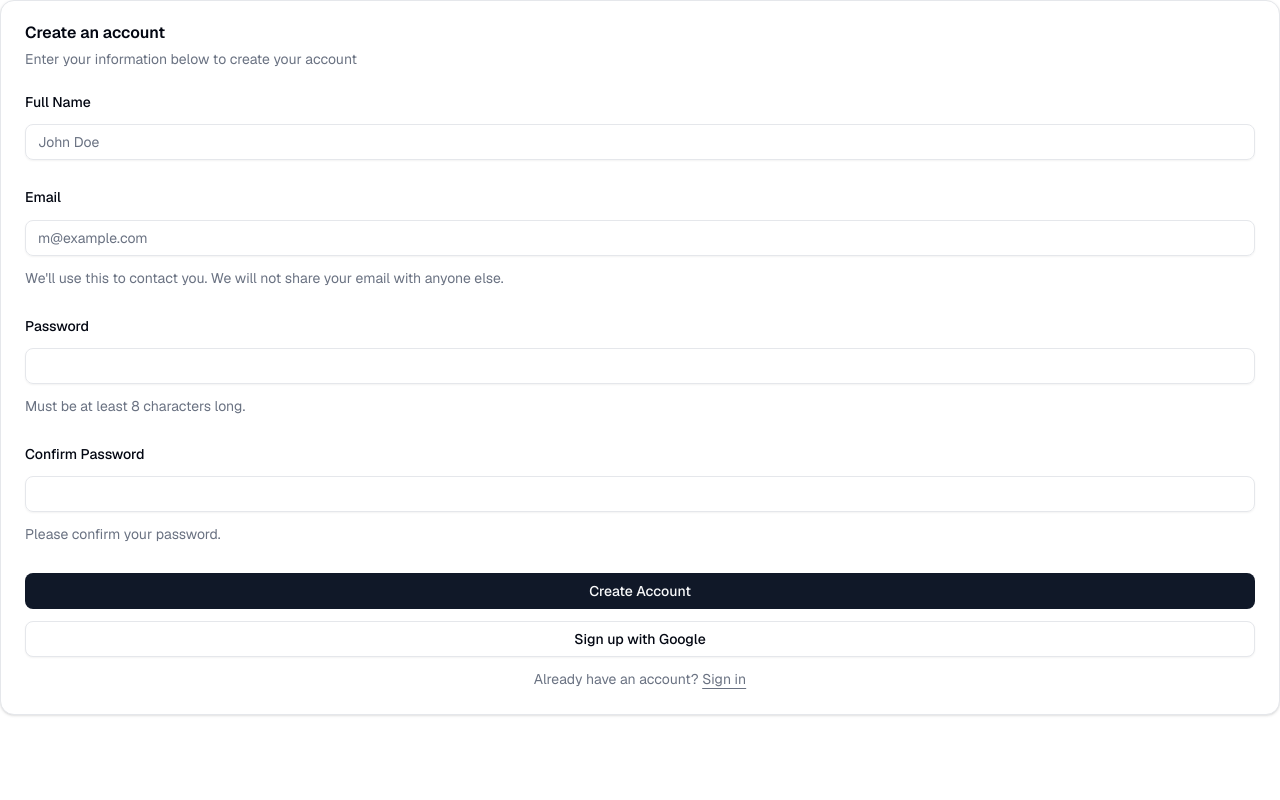
Test case: SignupForm Component › should show error when registration fails
Step 1. Type "Test User" into the field labelled "Full Name" → (640, 142), box [25,124,1255,160]
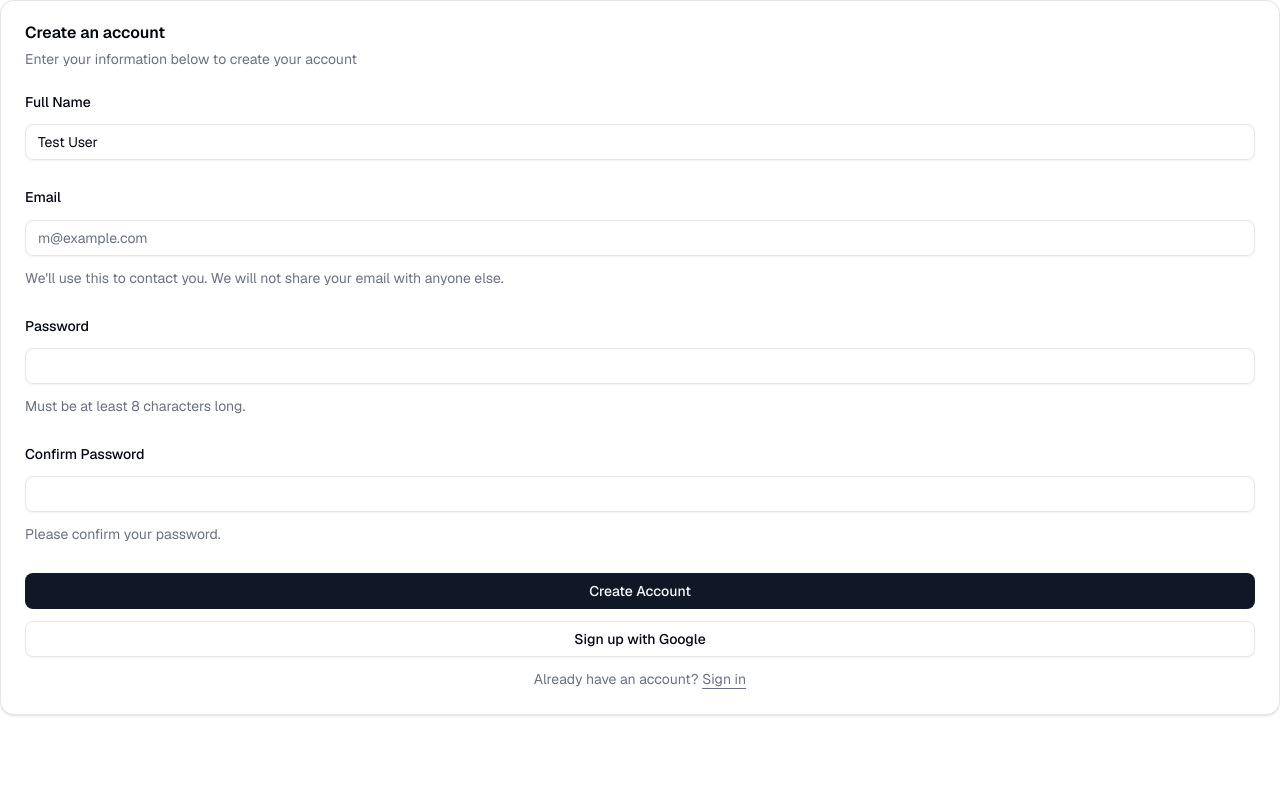
Step 2. Type "existing@example.com" into the field labelled "Email" → (640, 238), box [25,220,1255,256]
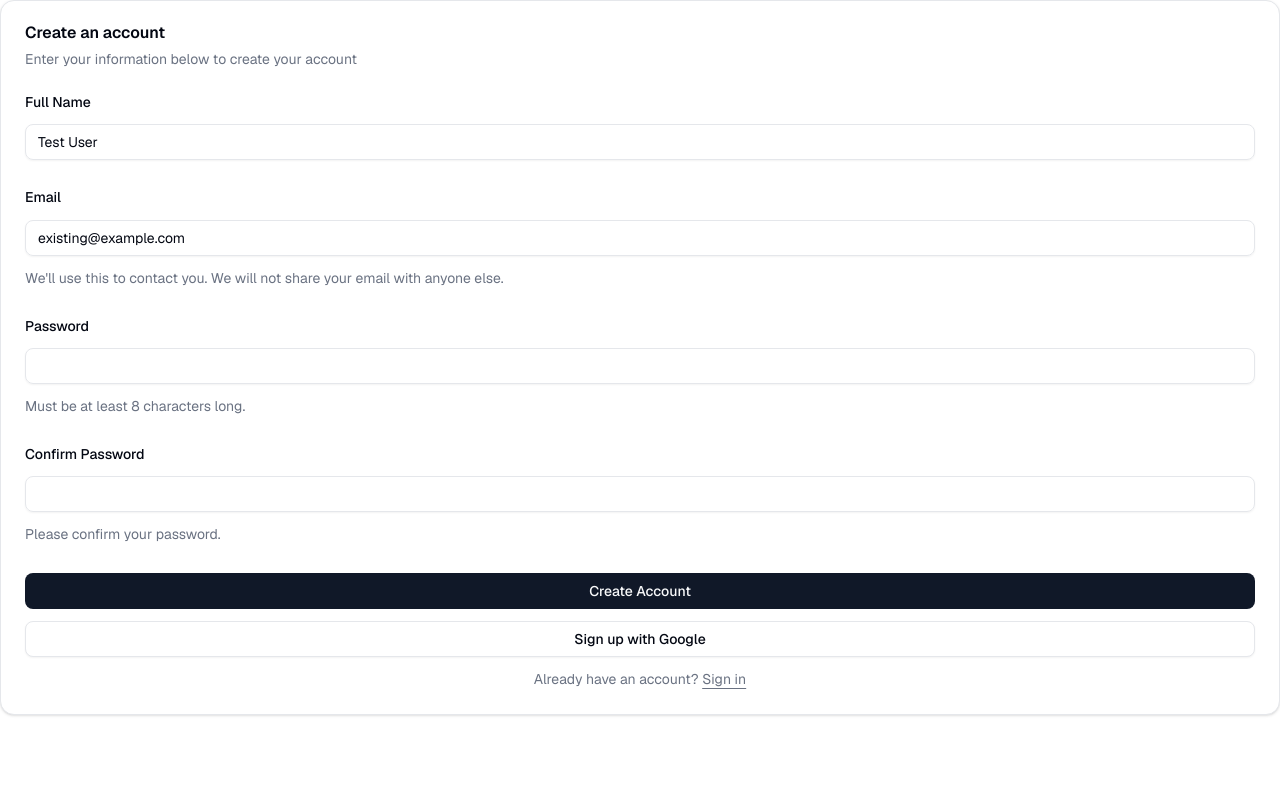
Step 3. Type "password123" into the password field labelled "Password" → (640, 366), box [25,348,1255,384]
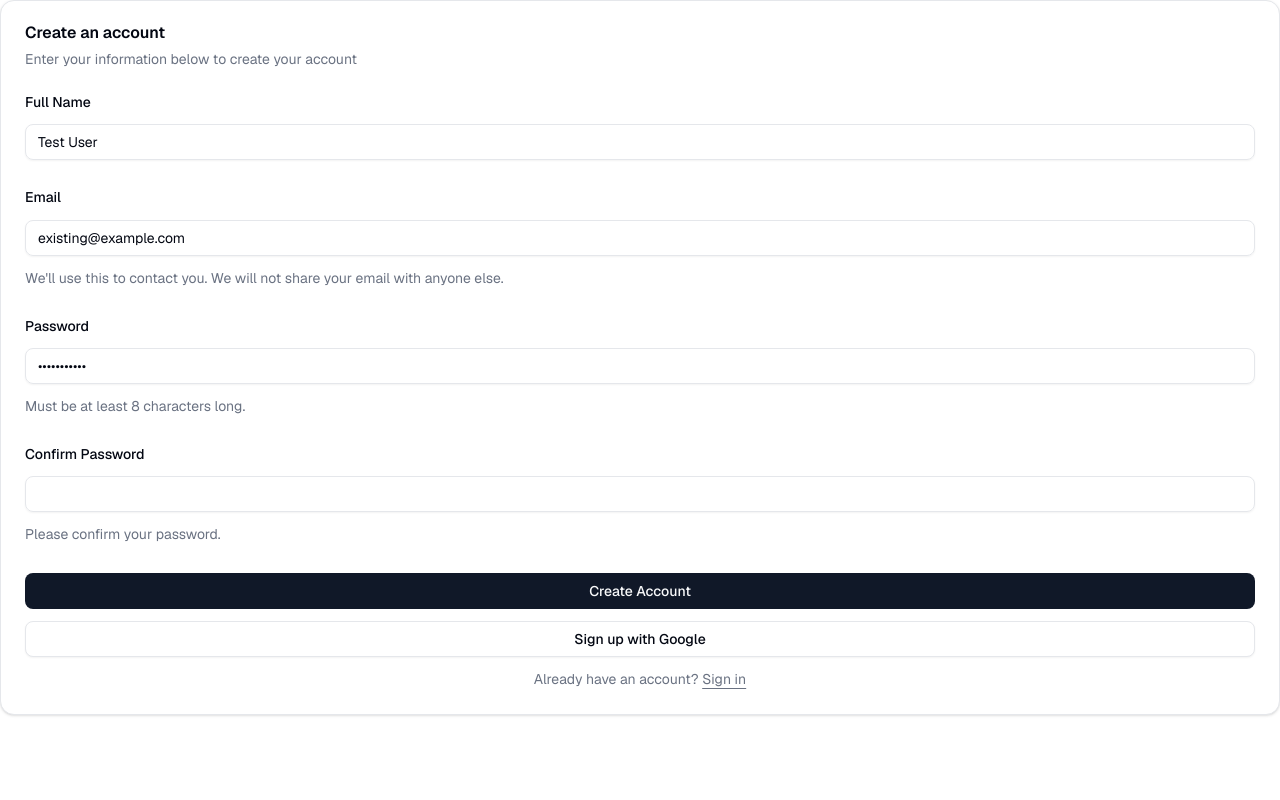
Step 4. Type "password123" into the password field labelled "Confirm Password" → (640, 494), box [25,476,1255,512]
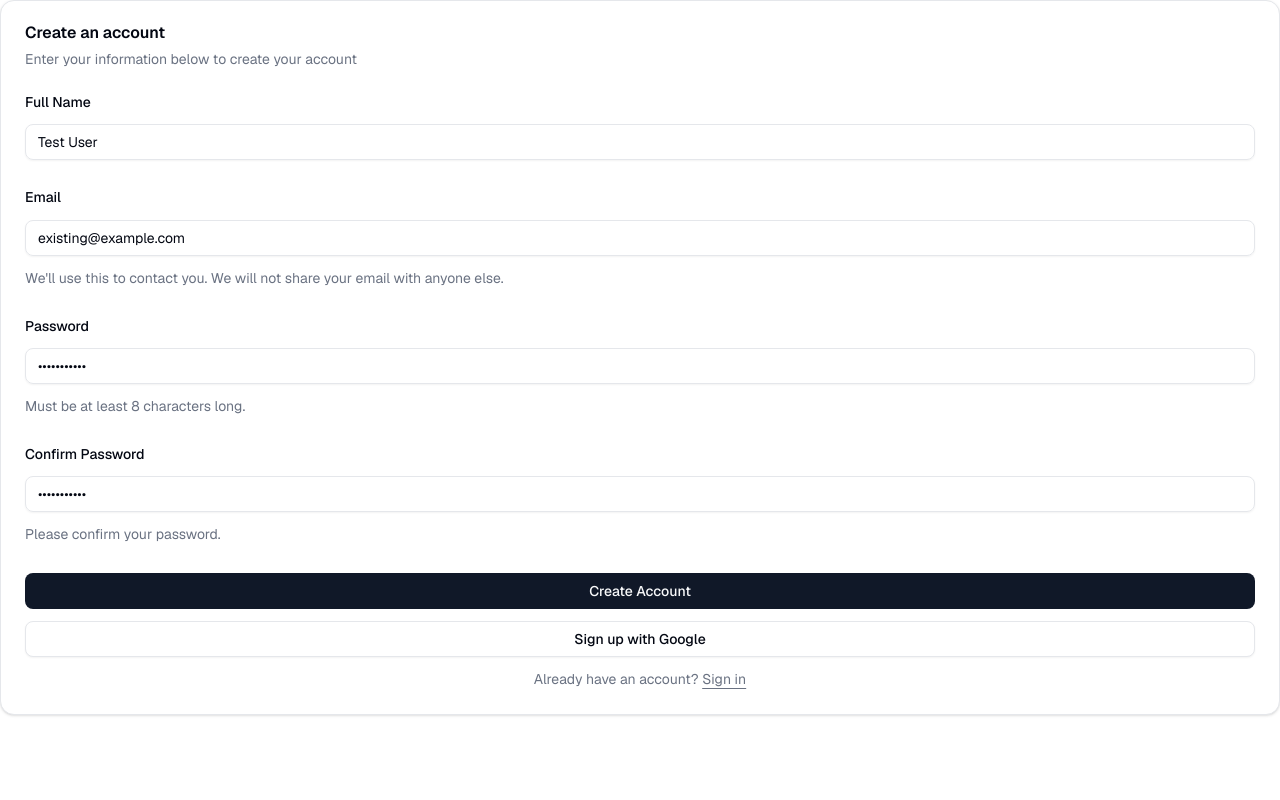
Step 5. Click the button "Create Account" → (640, 591), box [25,573,1255,609]
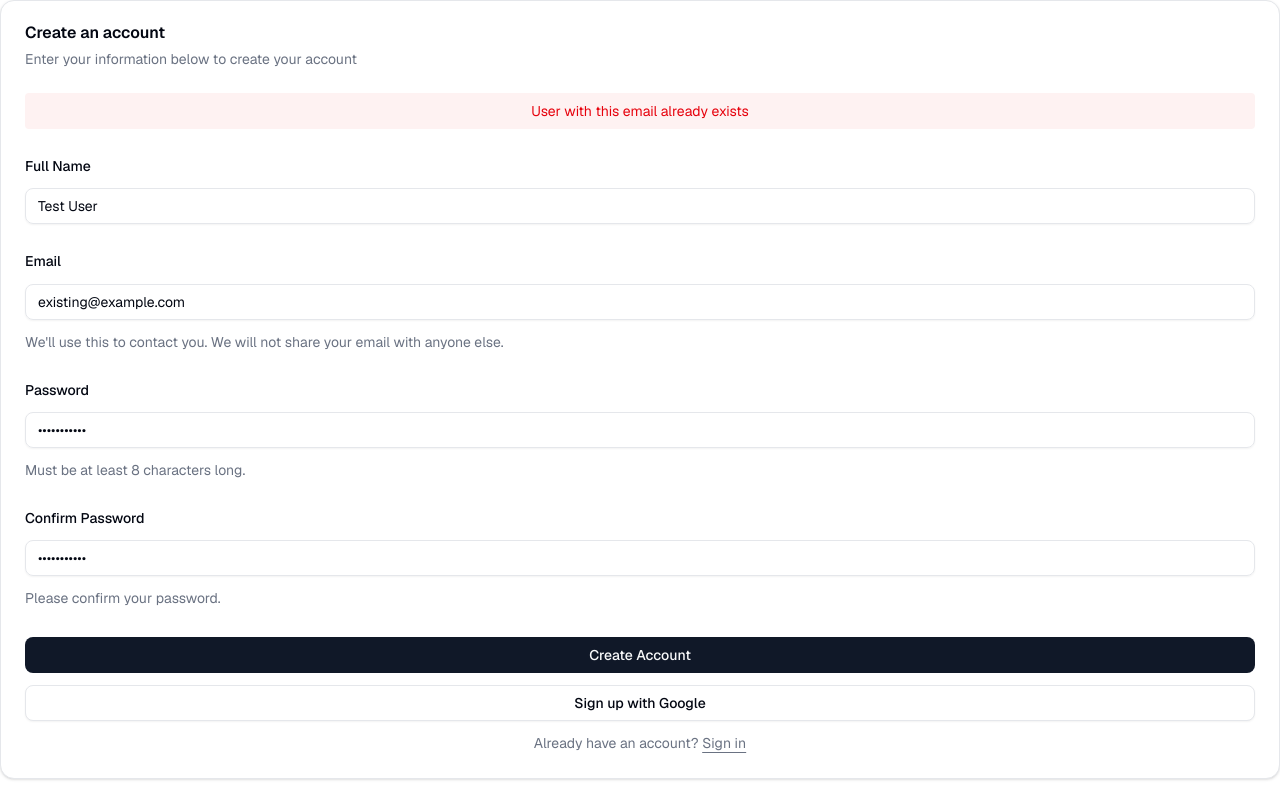
Now the text "User with this email already exists" is shown, box [25,93,1255,129]
